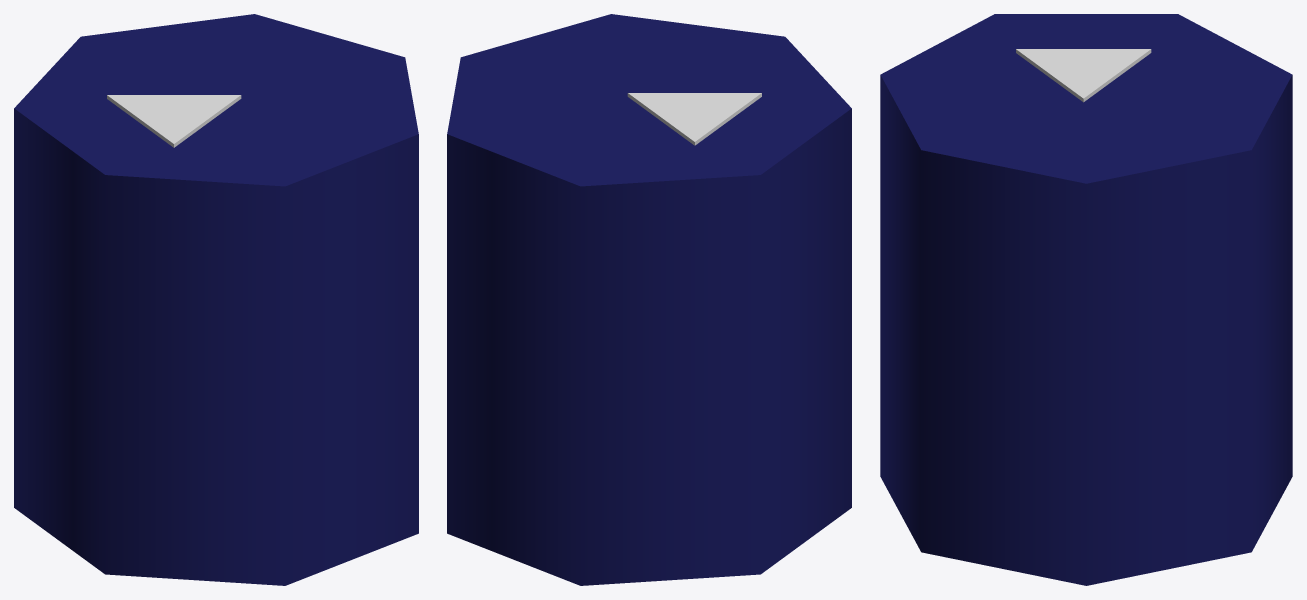
The model's file is bluecan.FBX.
The picture shows the model from 3 angles, left to right: view 1: azimuth 30°, elevation 25°; view 2: azimuth 150°, elevation 25°; view 3: azimuth 270°, elevation 25°; orthographic projection.
Parts seen in each view (by area): view 1: Cylinder001, Prism001; view 2: Cylinder001, Prism001; view 3: Cylinder001, Prism001.
Part boxes in pixels (bbox=[...]): Cylinder001: bbox=[14, 14, 418, 585]; Prism001: bbox=[107, 95, 241, 147]; Cylinder001: bbox=[447, 14, 851, 585]; Prism001: bbox=[627, 93, 761, 145]; Cylinder001: bbox=[880, 14, 1292, 585]; Prism001: bbox=[1016, 49, 1151, 102].
Size of the model in its own units: 95.05 by 106 by 97.49.
